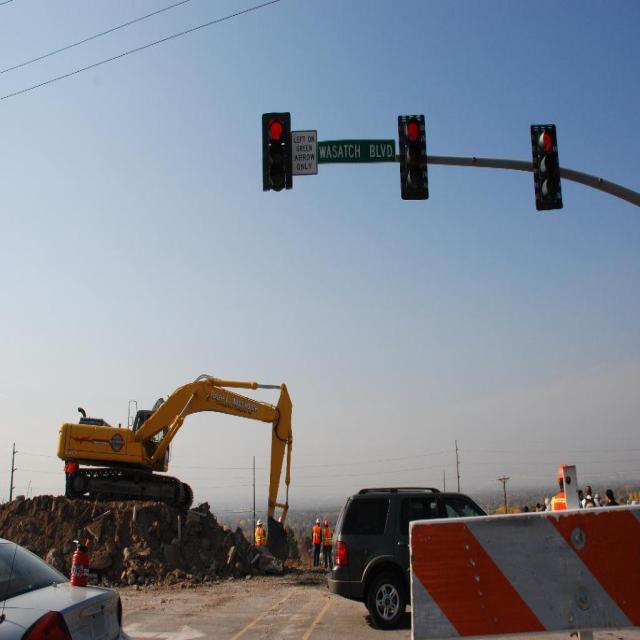traffic light: (531, 119, 573, 214), (393, 106, 434, 199), (259, 114, 294, 193)
